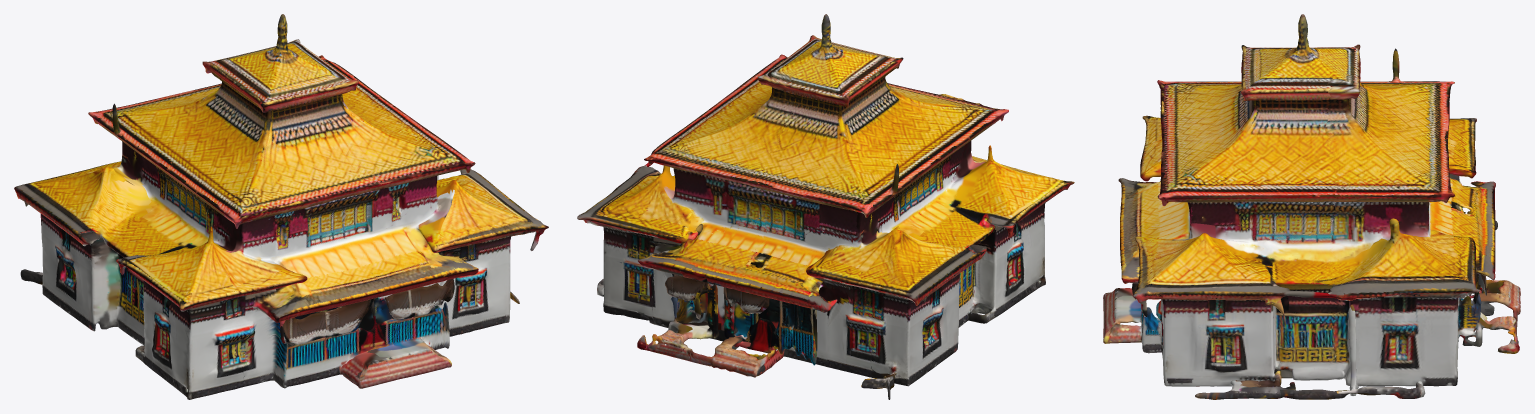
Rendered from RUMTEK3D.glb.
3 views of the same model, side by side, from view 1: azimuth 30°, elevation 25°; view 2: azimuth 150°, elevation 25°; view 3: azimuth 270°, elevation 25° (orthographic). The views are drawn at different scales.
Visible parts, largest first — view 1: Mesh, Mesh.001; view 2: Mesh; view 3: Mesh.
Boxes of the visible parts, x1,y1,x2,y2 form: Mesh: [14, 14, 548, 399]; Mesh.001: [385, 278, 454, 318]; Mesh: [577, 14, 1074, 399]; Mesh: [1103, 14, 1520, 399].
Size of the model in its own units: 0.991 by 0.764 by 0.9736.
Materials: 1 (1 with a texture image).
